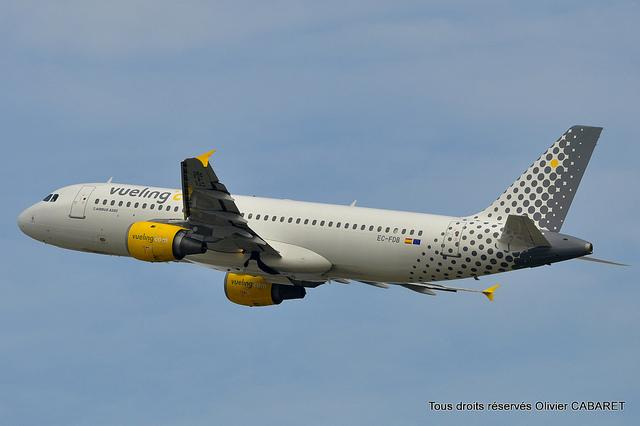airplane: (16, 123, 635, 308)
